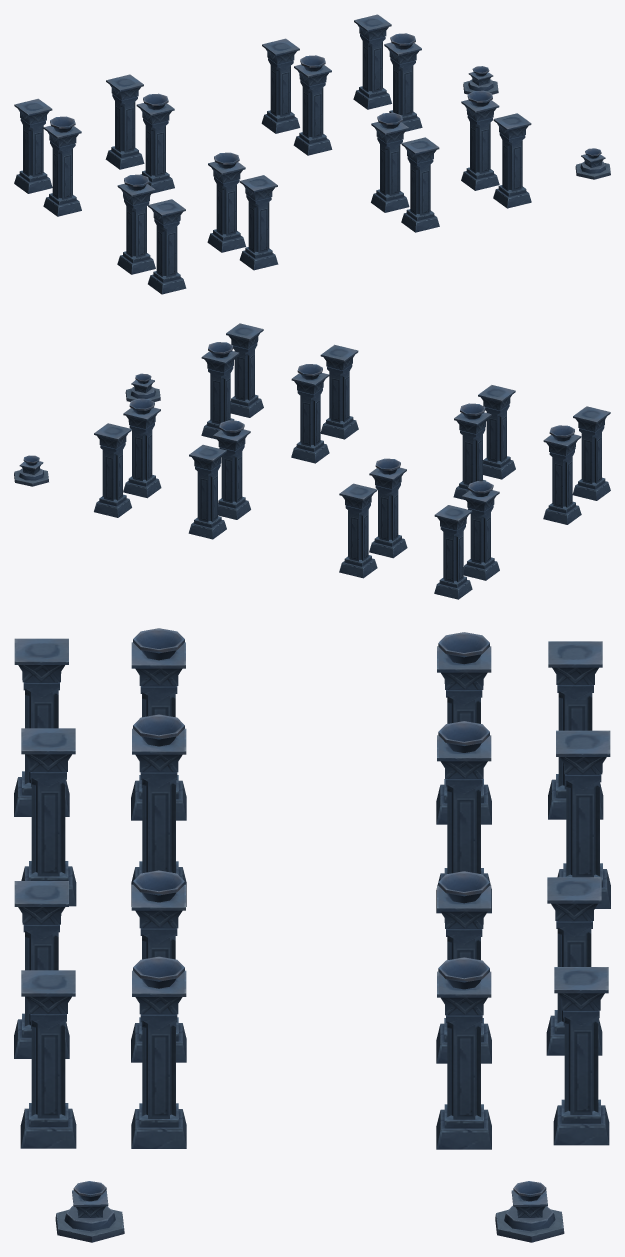
File: wujian49.fbx
The picture shows the model from 3 angles, top to bottom: view 1: azimuth 30°, elevation 25°; view 2: azimuth 150°, elevation 25°; view 3: azimuth 270°, elevation 25°; orthographic projection. The views are drawn at different scales.
Parts seen in each view (by area): view 1: wujian49; view 2: wujian49; view 3: wujian49.
Part boxes in pixels (x1=…): wujian49: x1=14, y1=14, x2=610, y2=294; wujian49: x1=14, y1=323, x2=610, y2=599; wujian49: x1=14, y1=628, x2=610, y2=1242.
Size of the model in its own units: 2936 by 519 by 1655.
Materials: 1 (1 with a texture image).
